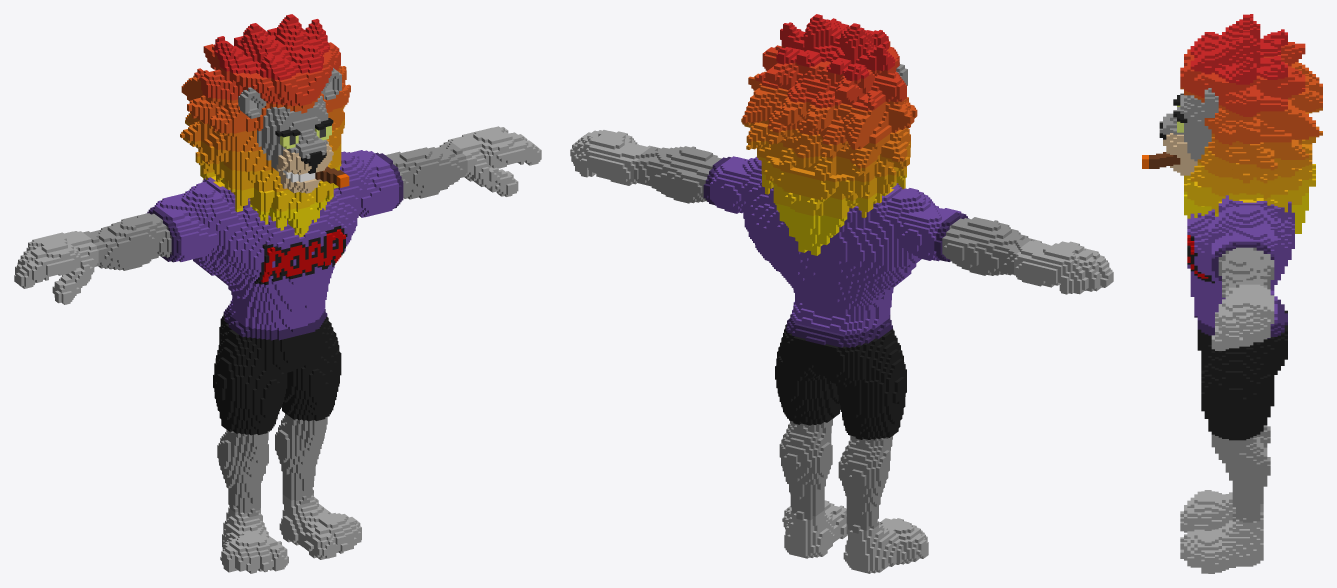
The model's file is 791-BBR2fYpL.glb.
3 renders of one model, left to right at view 1: azimuth 30°, elevation 25°; view 2: azimuth 150°, elevation 25°; view 3: azimuth 270°, elevation 25°, orthographic. The views are drawn at different scales.
Parts seen in each view (by area): view 1: cigar; view 2: cigar; view 3: cigar.
Part boxes in pixels (x1,y1,x2,y2): cigar: [14, 14, 541, 573]; cigar: [570, 14, 1113, 573]; cigar: [1142, 14, 1322, 573].
Bounding box in the file's own units: 17.2 × 16.5 × 5.2.
5 materials, 5 textured.
